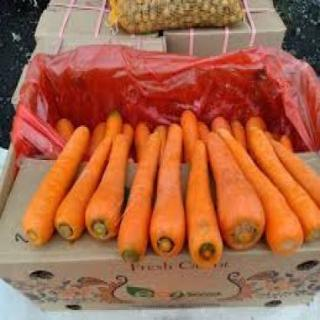Wortel: (20, 124, 92, 248), (206, 131, 268, 252), (84, 132, 131, 244), (150, 122, 187, 260), (186, 138, 220, 270)
